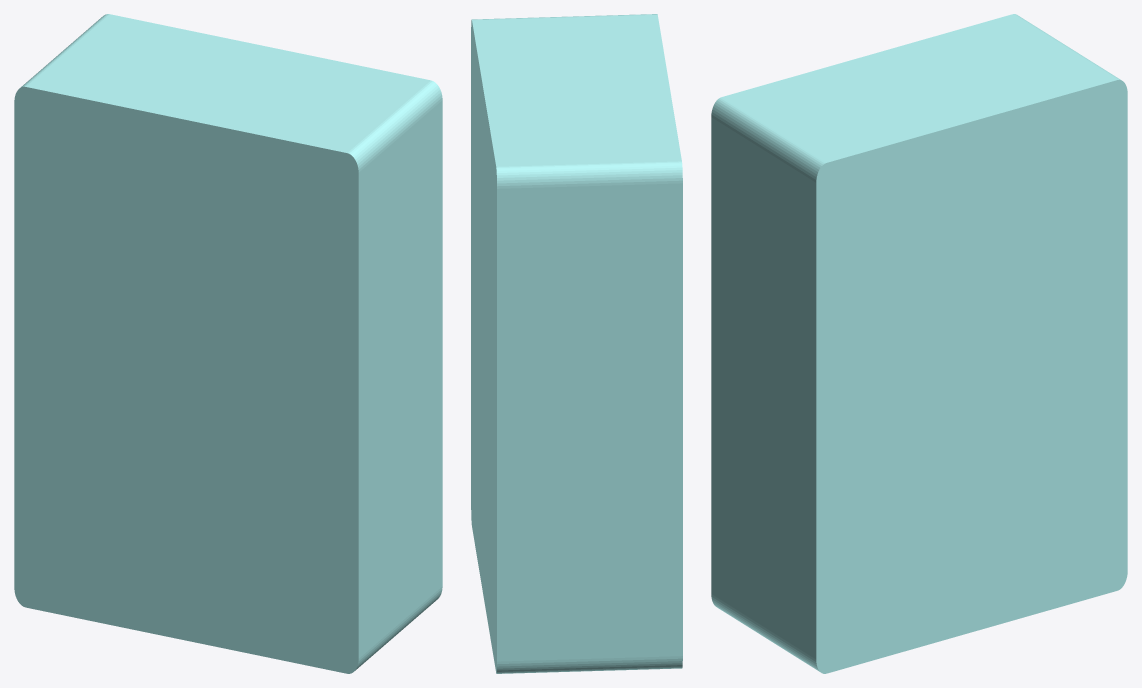
The picture shows the model from 3 angles, left to right: view 1: azimuth 30°, elevation 25°; view 2: azimuth 150°, elevation 25°; view 3: azimuth 270°, elevation 25°; orthographic projection. The views are drawn at different scales.
Visible parts, largest first — view 1: Cube.031; view 2: Cube.031; view 3: Cube.031.
Part boxes in pixels (box(x1,y1,x2,y2)): Cube.031: box(14, 14, 442, 673); Cube.031: box(471, 14, 682, 673); Cube.031: box(711, 14, 1127, 673).
Bounding box in the file's own units: 0.1947 × 0.2217 × 0.3.
